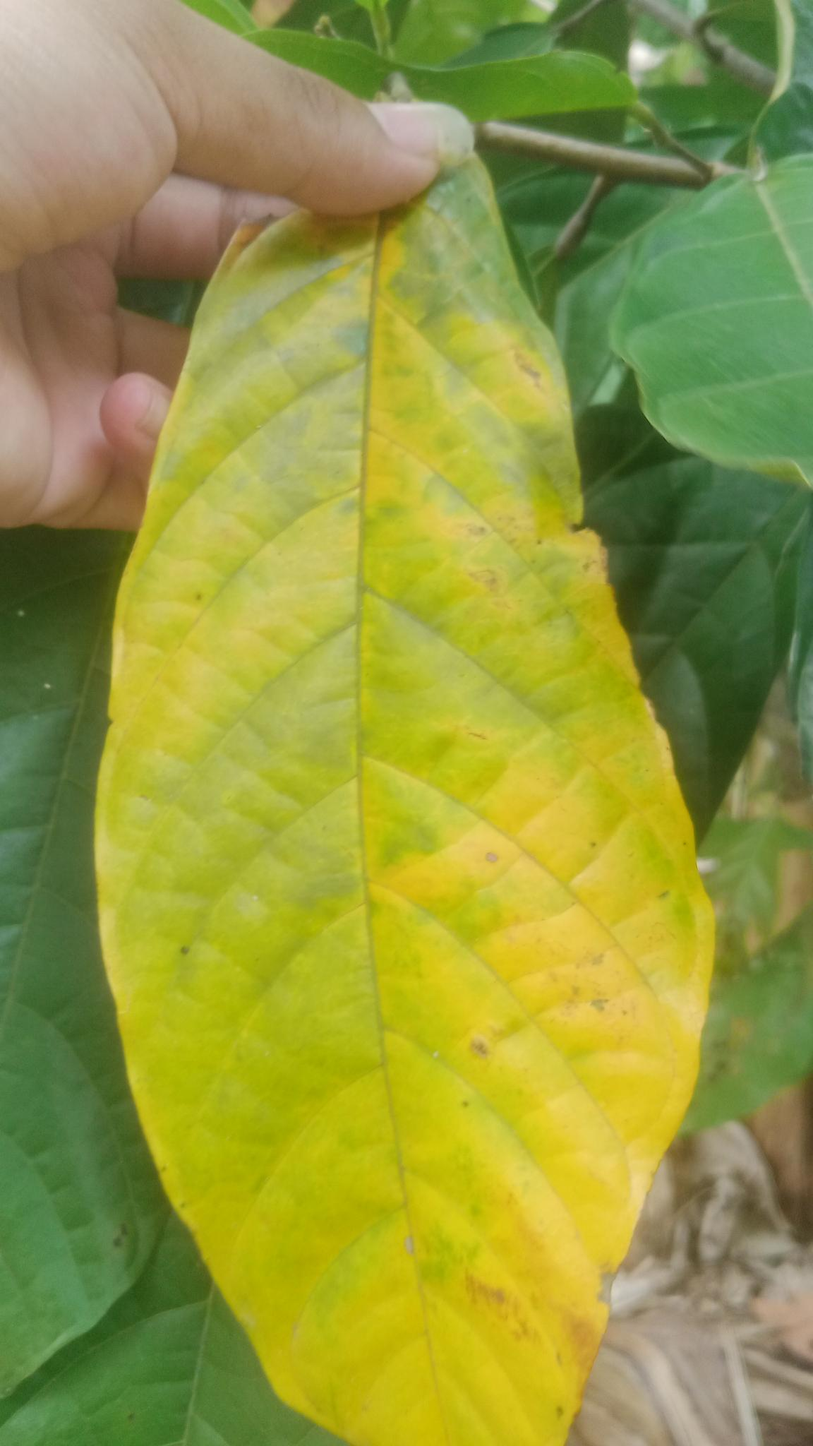Fosforo: (98, 154, 719, 1446)
